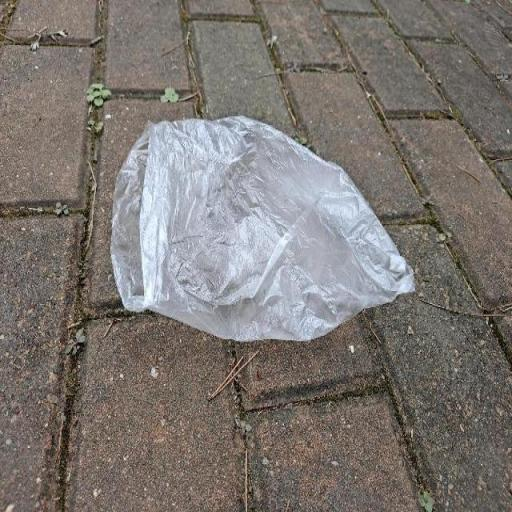plastic-bag: (107, 112, 418, 344)
